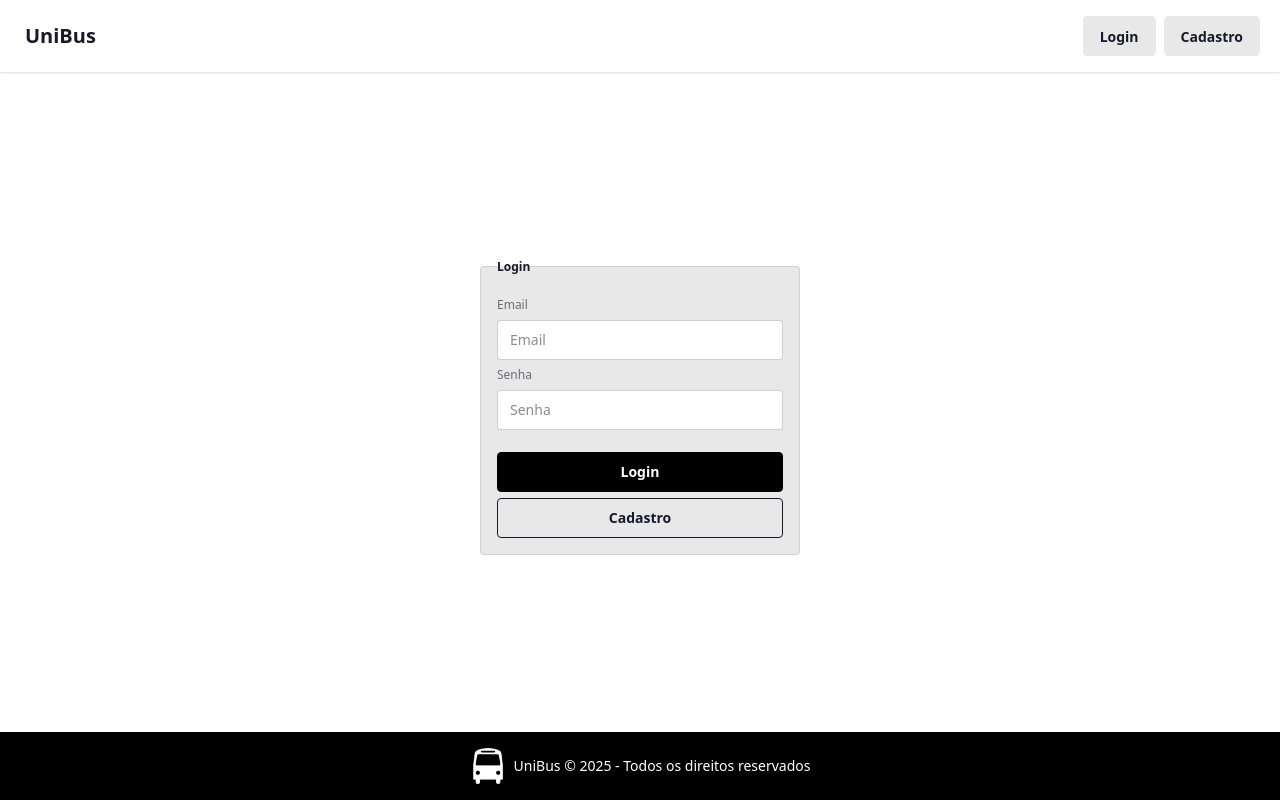
Funcionalidade de Login › Deve mostrar mensagem de erro com credenciais inválidas
Step 1. Type "usuario@errado.com" into the field with placeholder "Email" → coordinates (640, 340), box [497, 320, 783, 360]
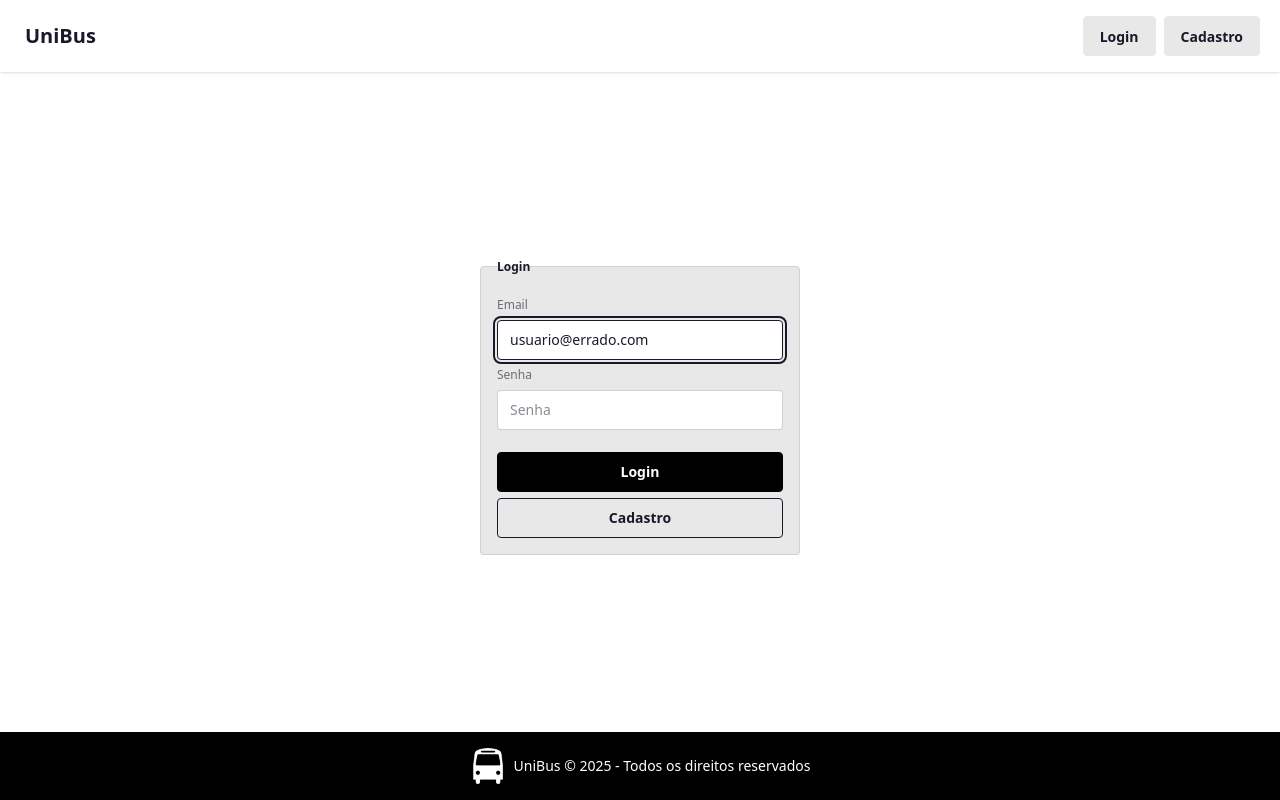
Step 2. Type "senhaerrada" into the password field with placeholder "Senha" → coordinates (640, 410), box [497, 390, 783, 430]
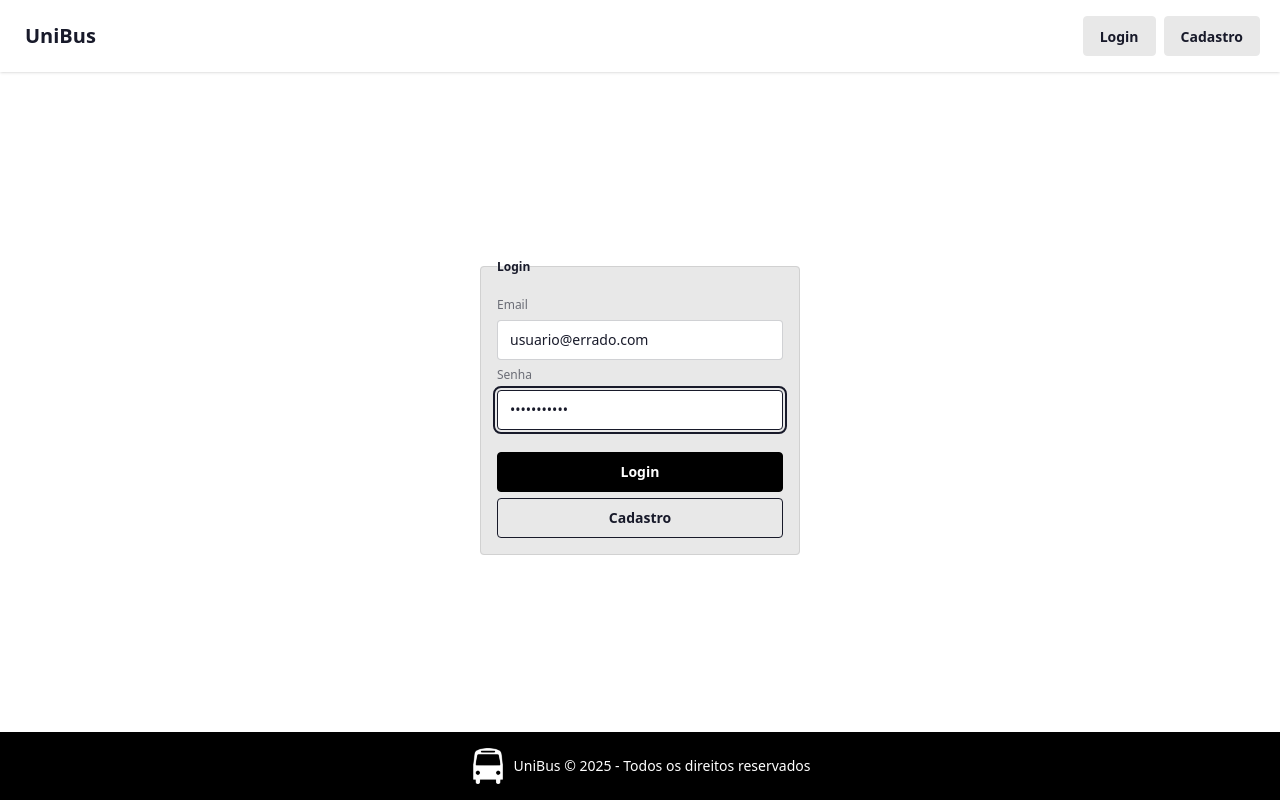
Step 3. Click the button "Login" → coordinates (640, 472), box [497, 452, 783, 492]
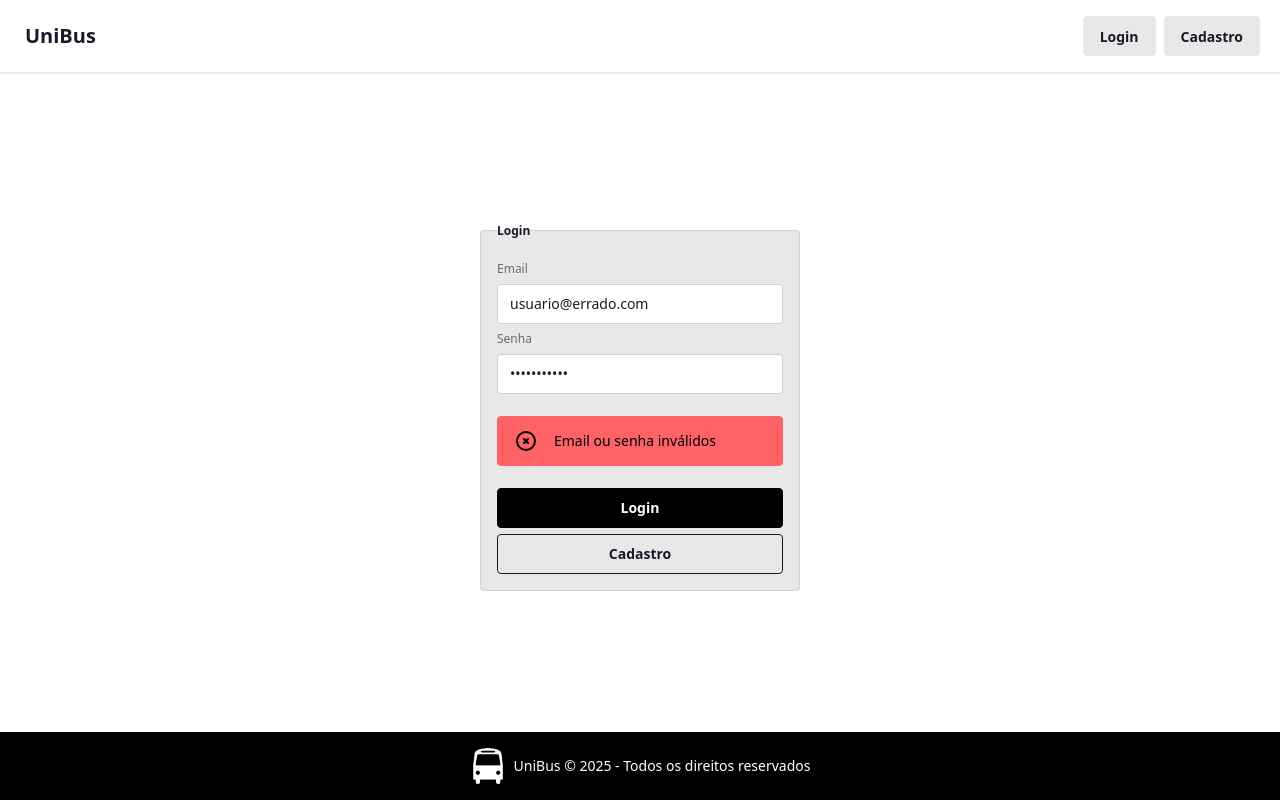
Expected: the message with class "alert-error" reads "Email ou senha inválidos", [497, 416, 783, 466]
